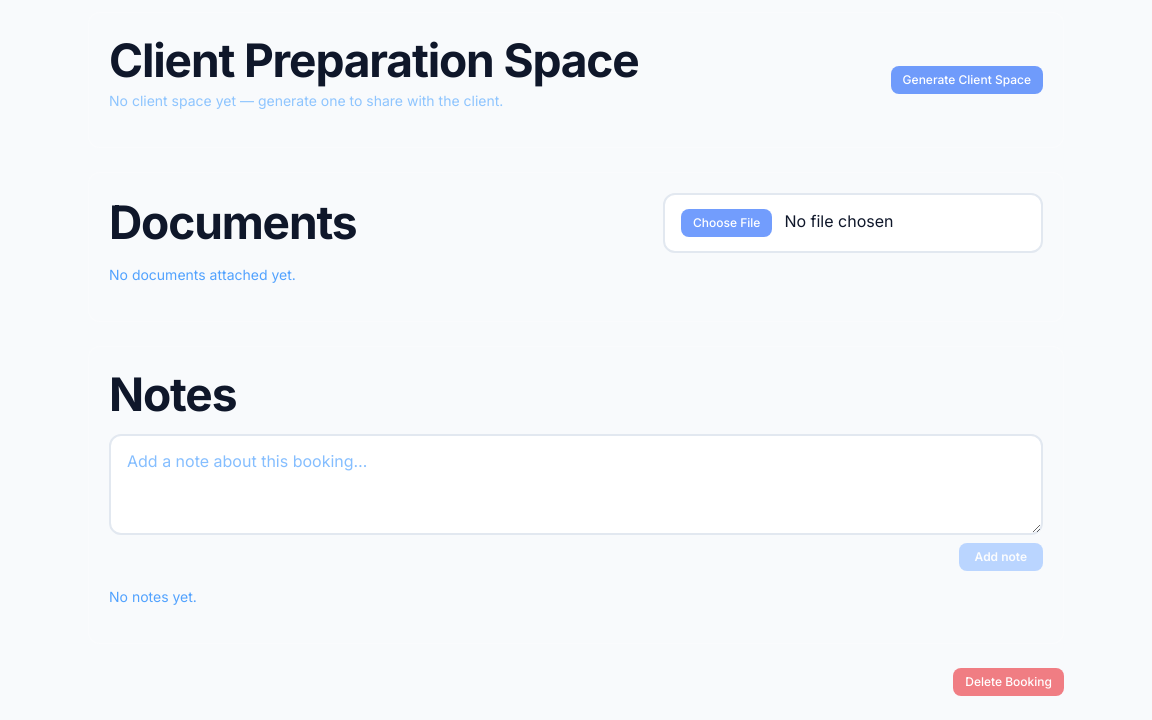
BookingDetailClient › adds a note stamped with the admin username, shown immediately
(page scrolled)
Type "Called the client to confirm." into the text box with placeholder "Add a note about this booking…".
click(576, 484); type("Called the client to confirm.")  # box [109, 434, 1043, 534]
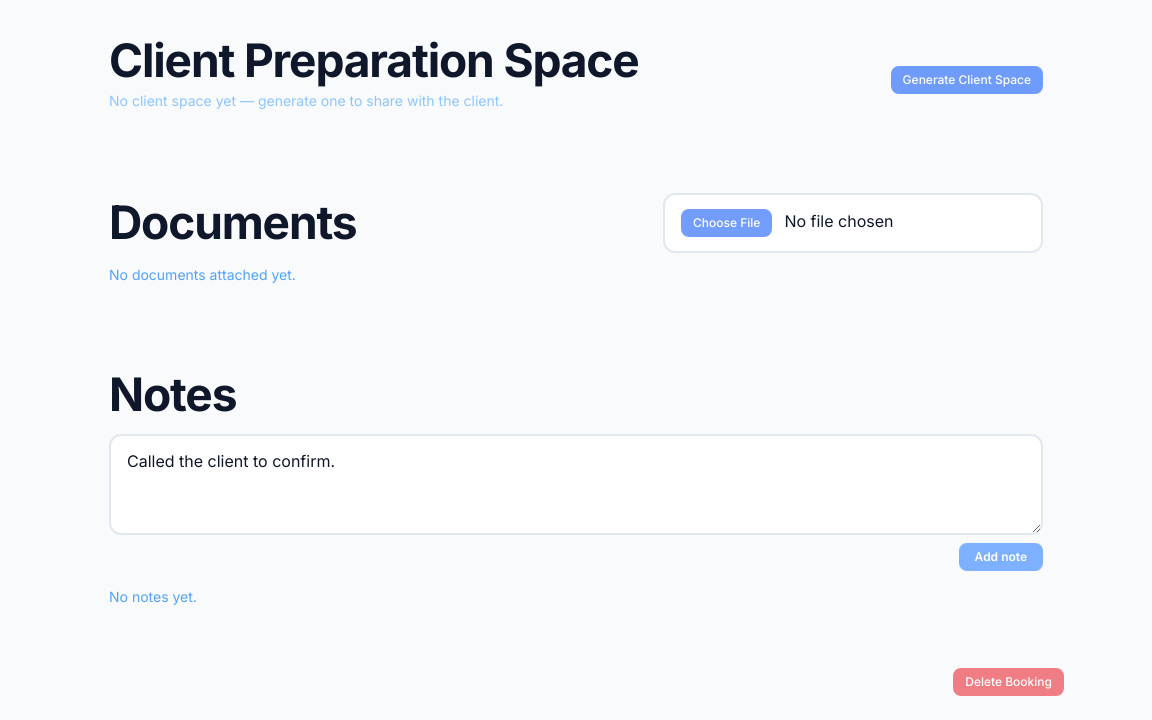
Click the button "Add note".
click(1001, 556)  # box [959, 542, 1043, 570]
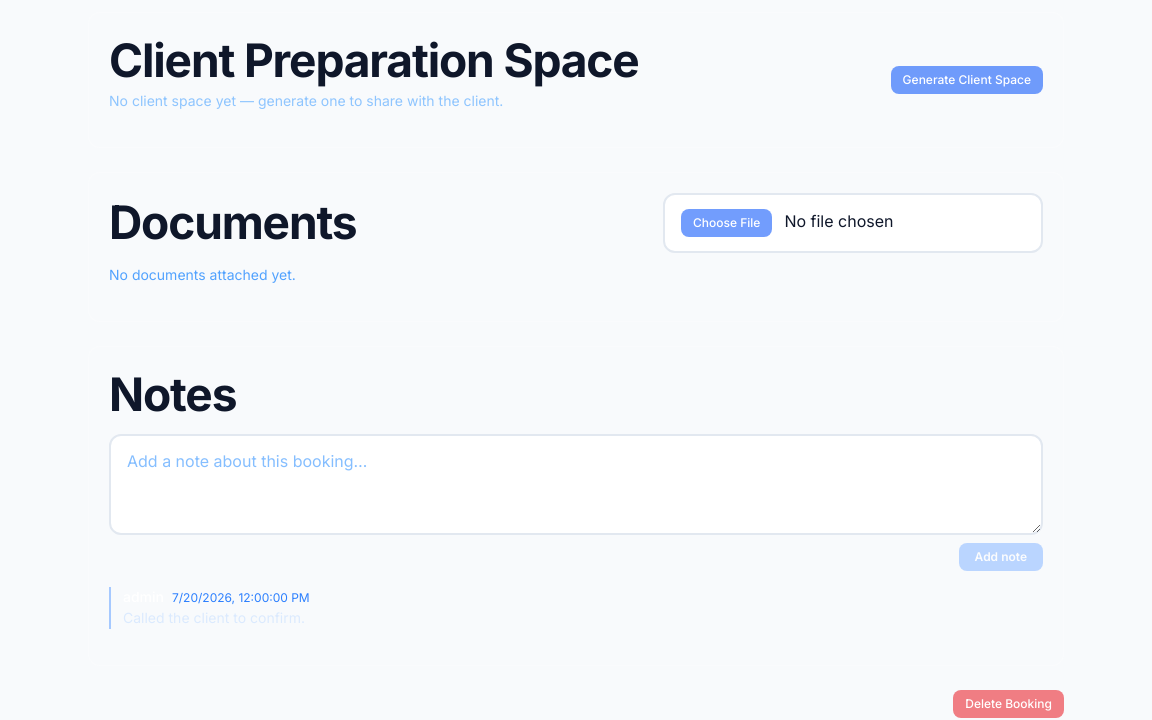
Expected: the text "Called the client to confirm." is shown, [123, 608, 305, 626]
